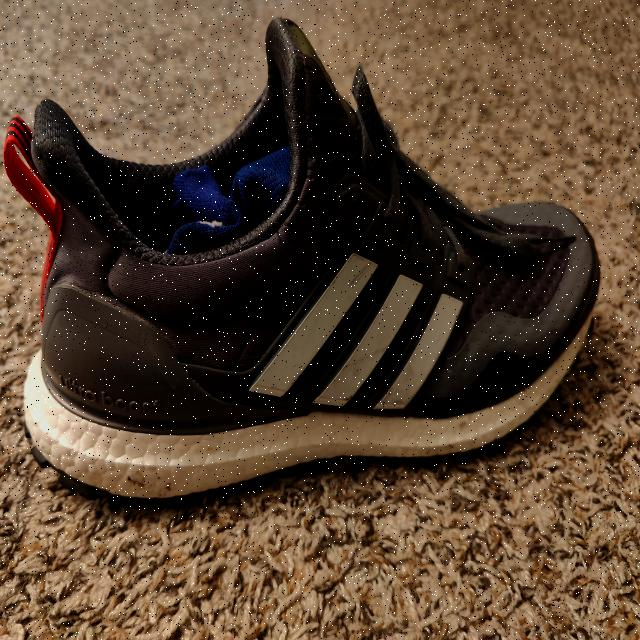black shoes: (1, 17, 600, 485)
